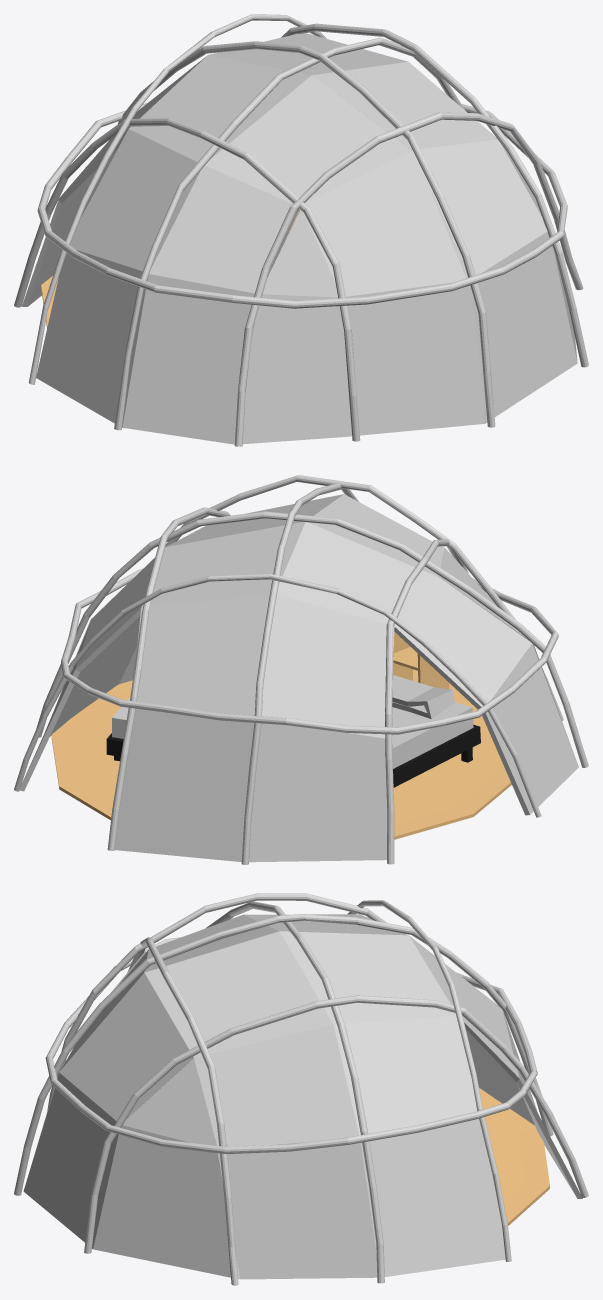
The model's file is hive.glb.
3 views of the same model, one above another, from view 1: azimuth 30°, elevation 25°; view 2: azimuth 150°, elevation 25°; view 3: azimuth 270°, elevation 25° (orthographic). The views are drawn at different scales.
Visible parts, largest first — view 1: group2033712498, group202809250, group1890463173, group202095401, group709100622, group1745571414, group97029854, group1176821425; view 2: group2033712498, group1788595096, group463774242, group202809250, group1745571414, group1176821425, group709100622, group97029854, group1890463173, group202095401, group833190441, group203602537; view 3: group2033712498, group202809250, group97029854, group709100622, group1788595096, group1745571414, group1890463173, group202095401, group1176821425.
Boxes of the visible parts, x1=… form: group2033712498: x1=22, y1=33, x2=577, y2=444; group202809250: x1=37, y1=102, x2=567, y2=308; group1890463173: x1=234, y1=112, x2=583, y2=446; group202095401: x1=14, y1=118, x2=360, y2=441; group709100622: x1=118, y1=41, x2=495, y2=427; group1745571414: x1=114, y1=37, x2=465, y2=430; group97029854: x1=281, y1=23, x2=588, y2=367; group1176821425: x1=28, y1=14, x2=326, y2=384; group2033712498: x1=19, y1=494, x2=578, y2=862; group1788595096: x1=51, y1=669, x2=511, y2=839; group463774242: x1=392, y1=675, x2=480, y2=787; group202809250: x1=61, y1=568, x2=558, y2=734; group1745571414: x1=36, y1=511, x2=588, y2=767; group1176821425: x1=14, y1=574, x2=541, y2=817; group709100622: x1=241, y1=483, x2=358, y2=864; group97029854: x1=107, y1=507, x2=230, y2=850; group1890463173: x1=165, y1=475, x2=563, y2=720; group202095401: x1=385, y1=539, x2=468, y2=864; group833190441: x1=393, y1=632, x2=449, y2=688; group203602537: x1=106, y1=697, x2=130, y2=761; group2033712498: x1=23, y1=914, x2=582, y2=1279; group202809250: x1=45, y1=937, x2=537, y2=1153; group97029854: x1=84, y1=995, x2=588, y2=1253; group709100622: x1=14, y1=914, x2=553, y2=1195; group1788595096: x1=479, y1=1088, x2=549, y2=1225; group1745571414: x1=206, y1=901, x2=384, y2=1283; group1890463173: x1=127, y1=937, x2=238, y2=1285; group202095401: x1=47, y1=893, x2=386, y2=1110; group1176821425: x1=347, y1=900, x2=511, y2=1261.
Size of the model in its own units: 3.77 by 1.95 by 3.84.
